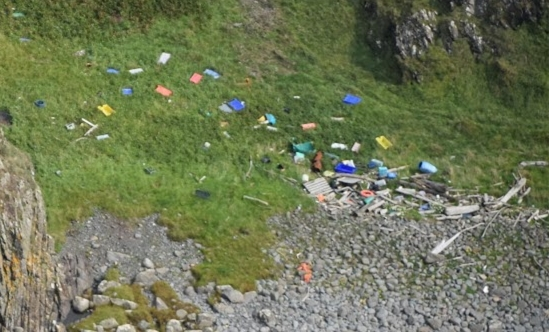scattered_barrel: (22, 45, 181, 149), (186, 59, 367, 137)
together_barrel: (252, 132, 448, 214)
white_in_green: (279, 249, 328, 291), (180, 172, 226, 214)
